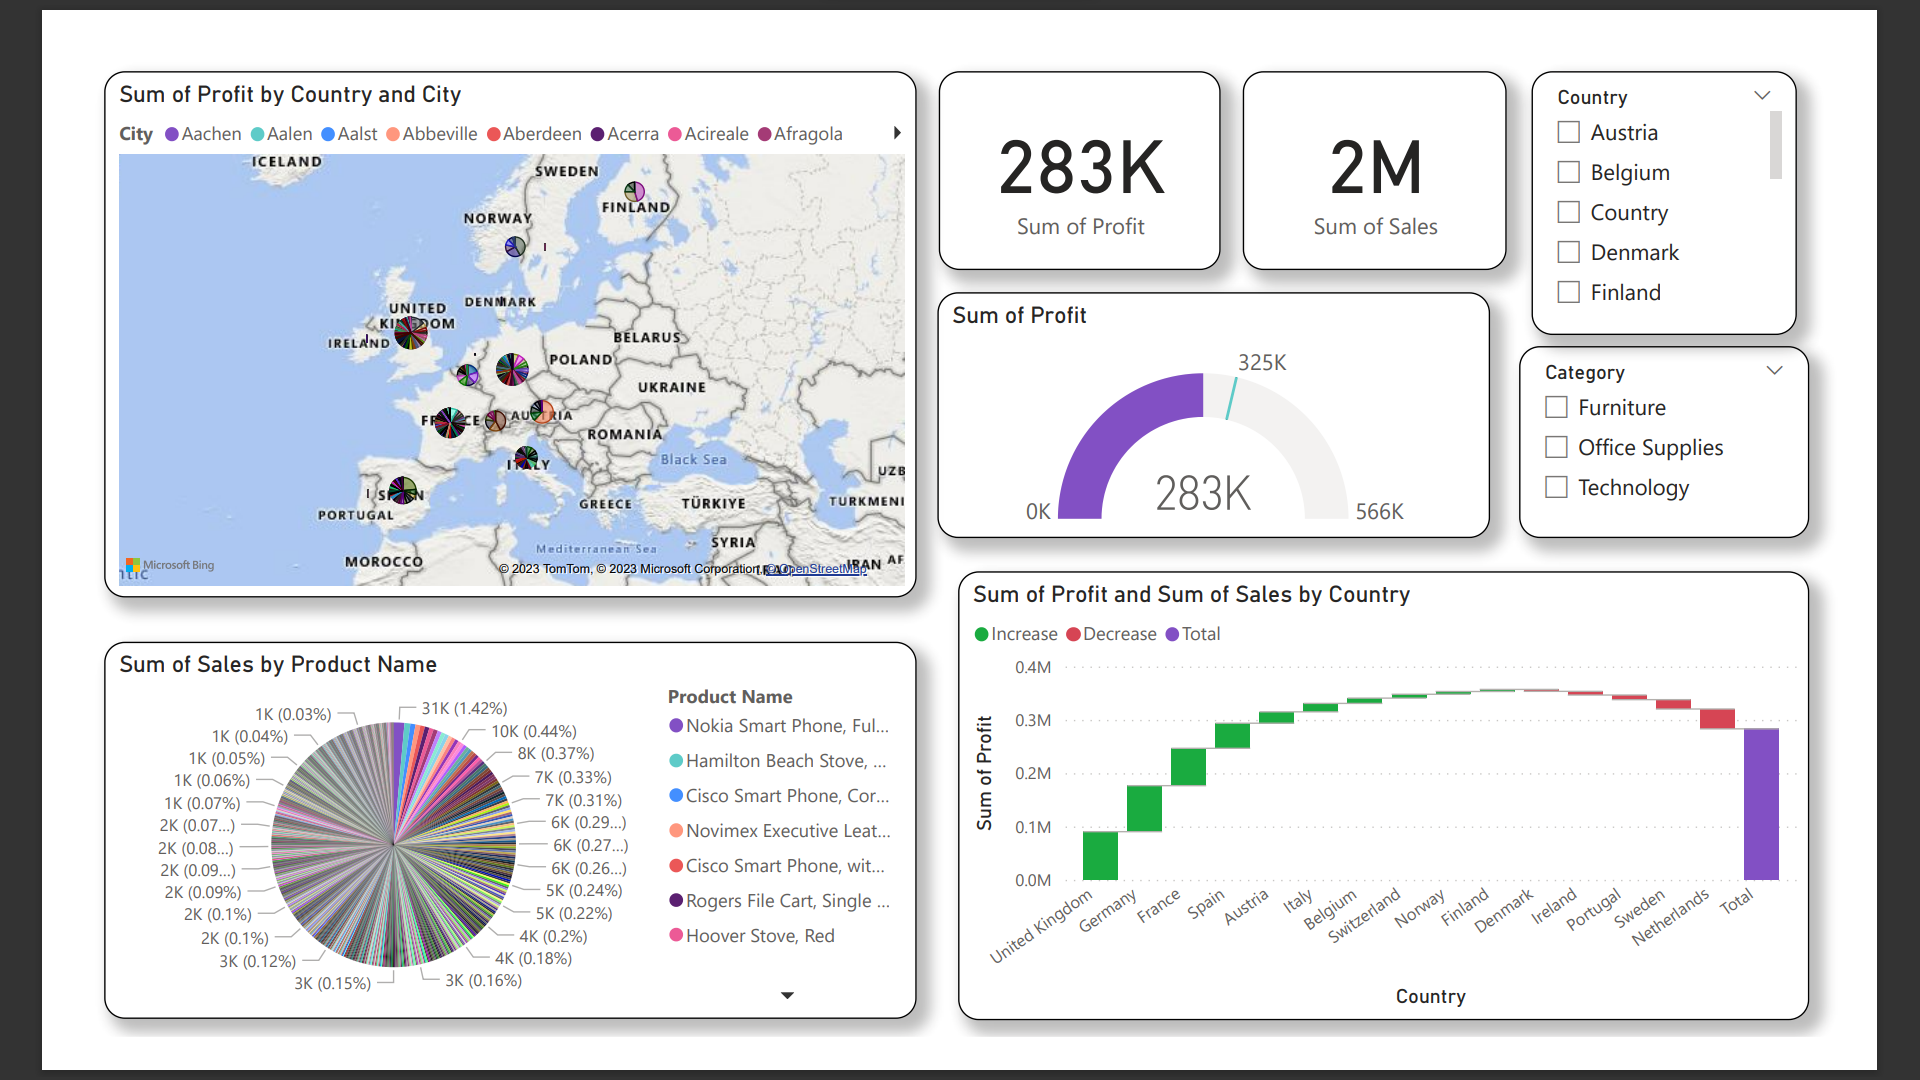

What the dashboard file says about the page in this screenshot:
{"tool":"powerbi","page":{"name":"Page 2","canvas":[1280,720],"ordinal":1},"visuals":[{"type":"map","fields":{"Category":["list_of_orders.Country"],"Series":["list_of_orders.City"],"Size":["Sum(order_brakdown.Profit)"]},"box":[21,21,588,381],"z":0},{"type":"card","fields":{"Values":["Sum(order_brakdown.Sales)"]},"box":[845,21,190.6,144.1],"z":1000},{"type":"card","fields":{"Values":["Sum(order_brakdown.Profit)"]},"box":[624.9,21,204.5,144.1],"z":2000},{"type":"gauge","fields":{"Y":["Sum(order_brakdown.Profit)"]},"box":[624,181,400,178],"z":3000},{"type":"slicer","fields":{"Values":["order_brakdown.Category"]},"box":[1045,220,210,139],"z":4000},{"type":"slicer","fields":{"Values":["list_of_orders.Country"]},"box":[1054,21,192,191],"z":5000},{"type":"waterfallChart","fields":{"Y":["Sum(order_brakdown.Profit)"],"Category":["list_of_orders.Country"]},"box":[639,383,616,325],"z":6000},{"type":"pieChart","fields":{"Category":["order_brakdown.Product Name"],"Y":["Sum(order_brakdown.Sales)"]},"box":[21,434,588,273],"z":7000}]}

Visuals, with their boxes in screenshot pixels (x1, y1, x2, y2), scaled from the page's 1280x720 canvas onto the 1920x1080 screenshot:
map - list_of_orders.Country x list_of_orders.City: [left=32, top=32, right=914, bottom=603]
card - Sum(order_brakdown.Sales): [left=1268, top=32, right=1553, bottom=248]
card - Sum(order_brakdown.Profit): [left=937, top=32, right=1244, bottom=248]
gauge - Sum(order_brakdown.Profit): [left=936, top=272, right=1536, bottom=538]
slicer - order_brakdown.Category: [left=1568, top=330, right=1882, bottom=538]
slicer - list_of_orders.Country: [left=1581, top=32, right=1869, bottom=318]
waterfallChart - Sum(order_brakdown.Profit) x list_of_orders.Country: [left=958, top=574, right=1882, bottom=1062]
pieChart - order_brakdown.Product Name x Sum(order_brakdown.Sales): [left=32, top=651, right=914, bottom=1060]
